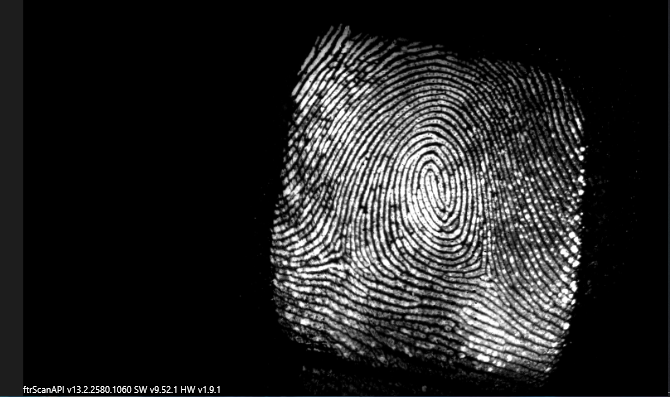deltas: (317, 228, 362, 278), (462, 245, 507, 292)
nucleo: (407, 147, 459, 201)
